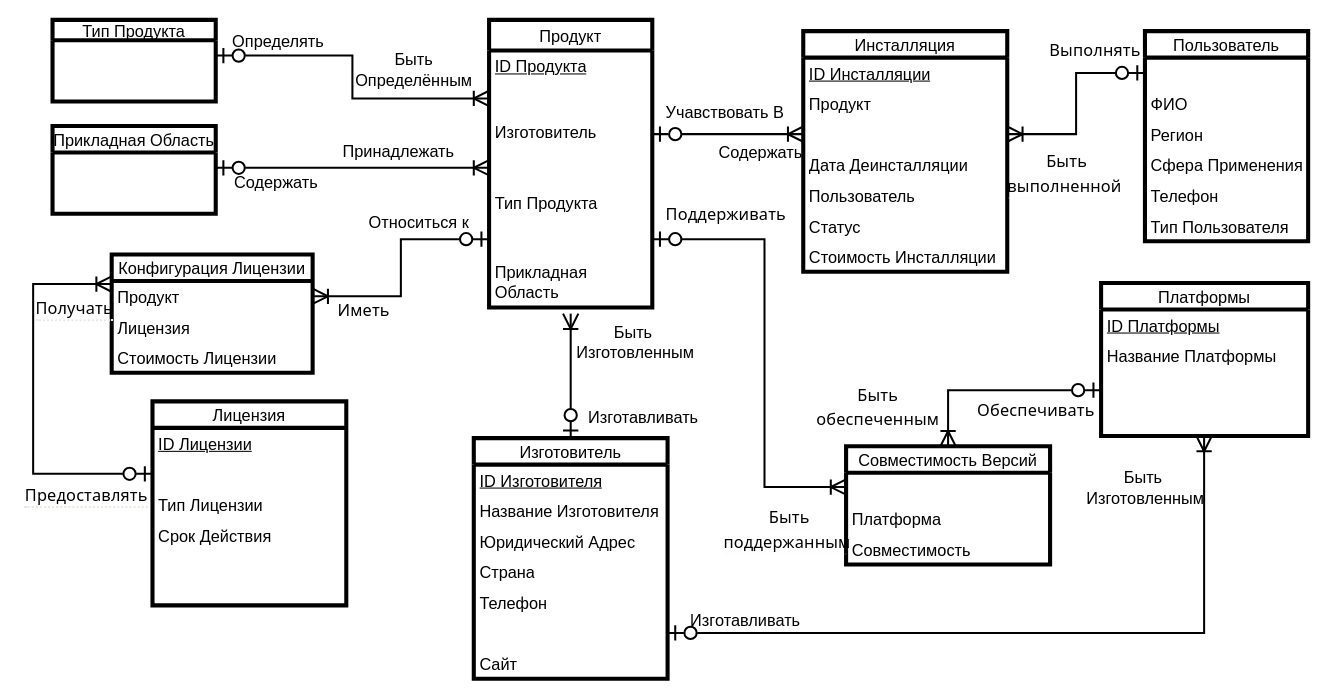
This 1328x699 diagram has some shape labels left out. The shapes that lost their labels are listed below. From the top down, each one's centre as x and y in pixels, then its label:
At (133,55): "ID Типа".
At (1226,72): "ID Пользователя".
At (133,85): "Название Типа".
At (570,98): "Название Продукта".
At (905,133): "Дата Инсталляции".
At (133,167): "ID Области".
At (570,169): "Версия".
At (133,198): "Название Области".
At (570,238): "Дата Выпуска".
At (1204,389): "Производитель".
At (1204,420): "Архитектура".
At (249,473): "Название".
At (948,487): "Версия Продукта".
At (249,577): "Условия Использования".
At (570,632): "Электронная Почта".
